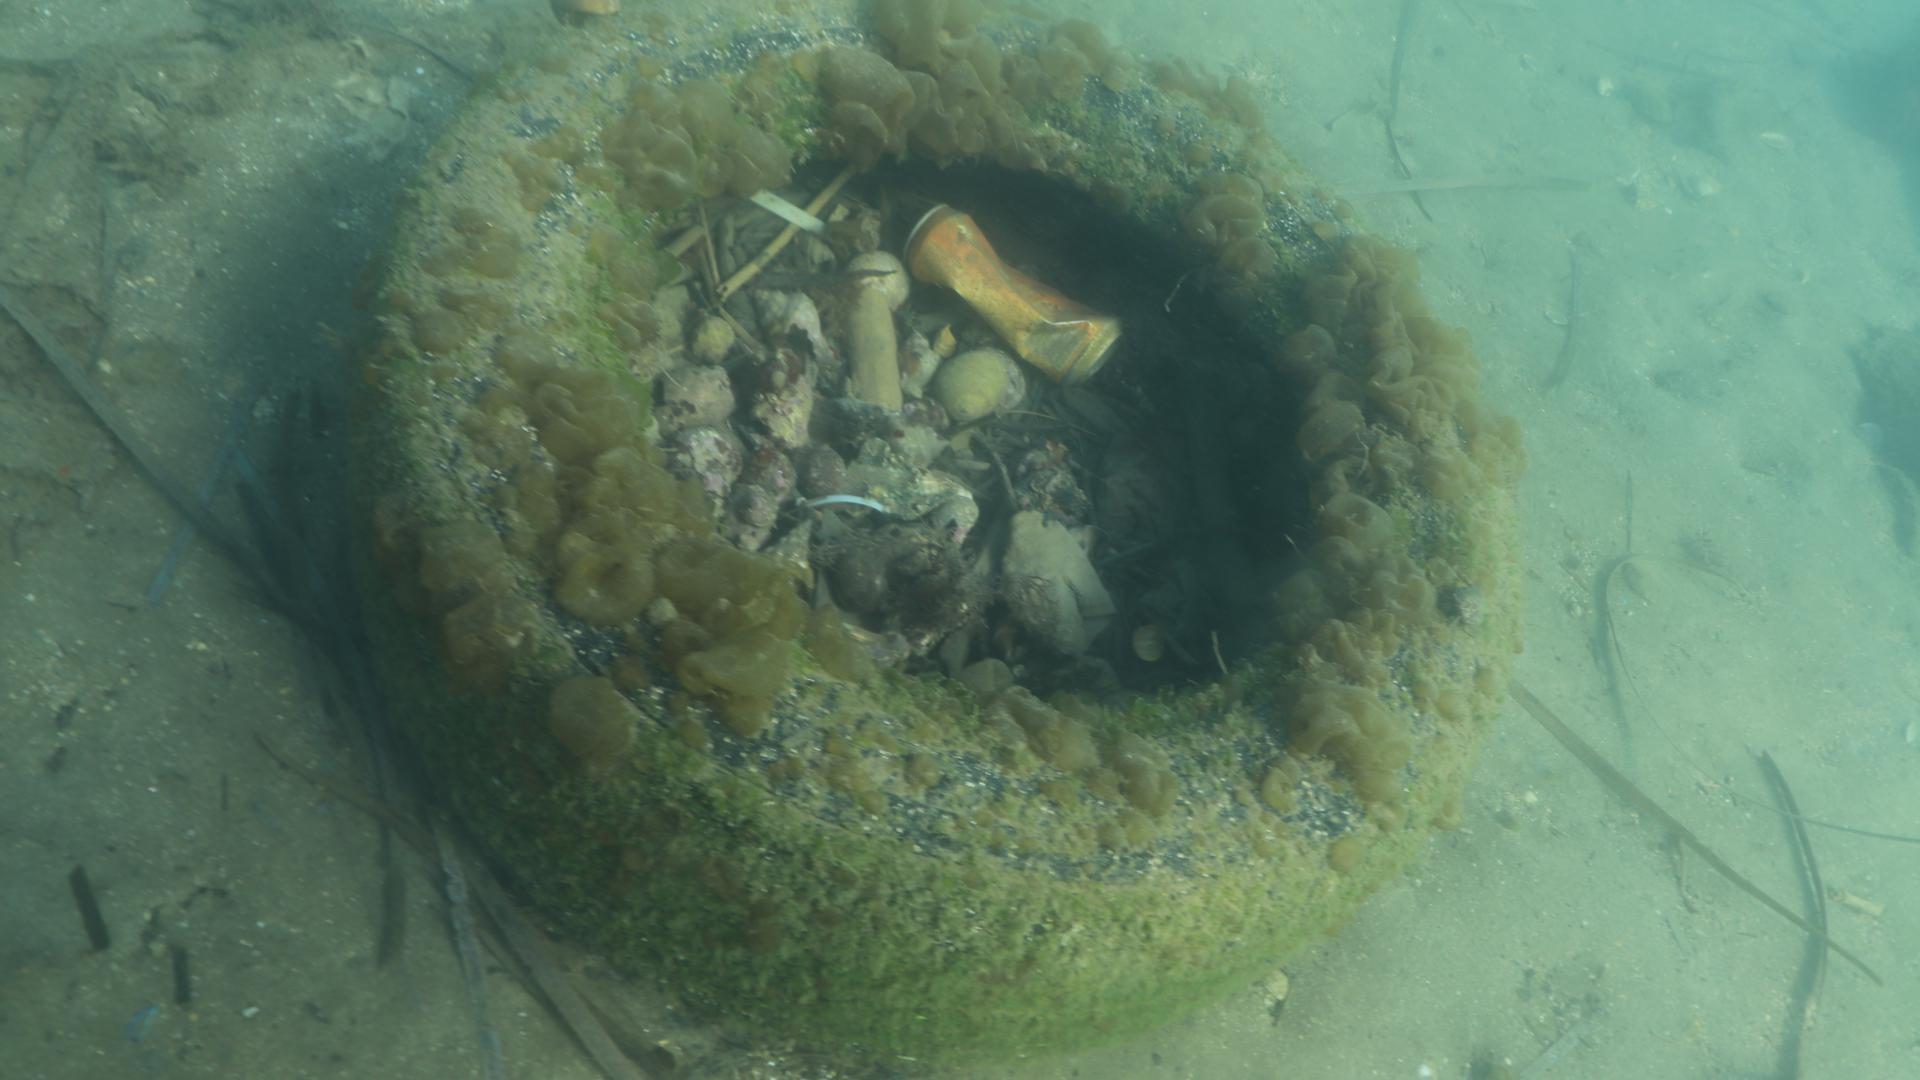tire: (345, 3, 1509, 1052)
